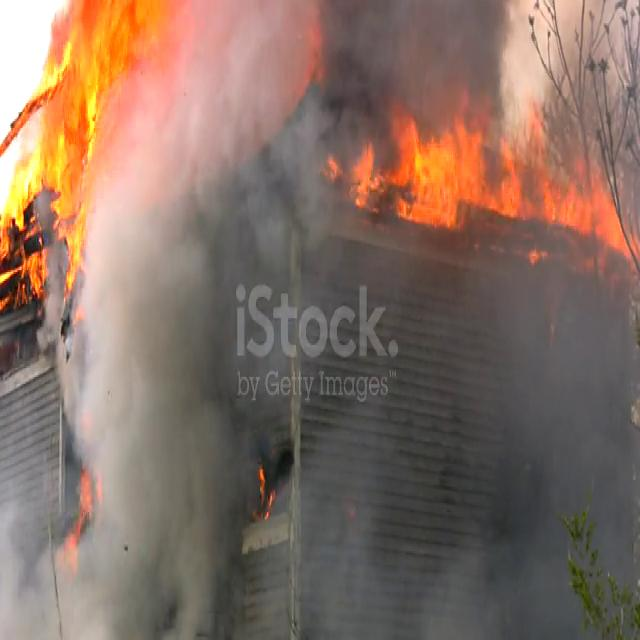fire: (0, 0, 173, 295), (362, 92, 554, 246)
smoke: (96, 294, 218, 619), (185, 0, 299, 164)
